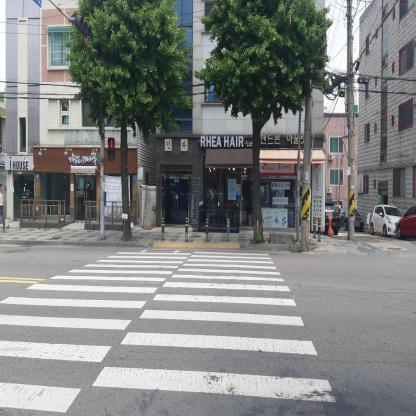Red: (108, 137, 115, 160)
